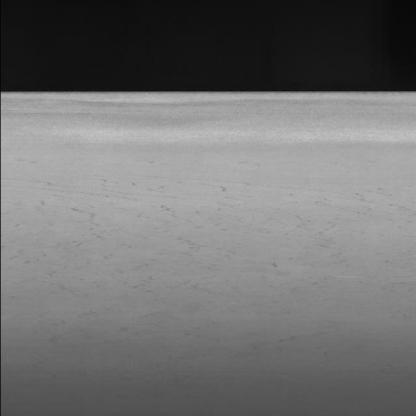silk_spot: (60, 167, 416, 300)
